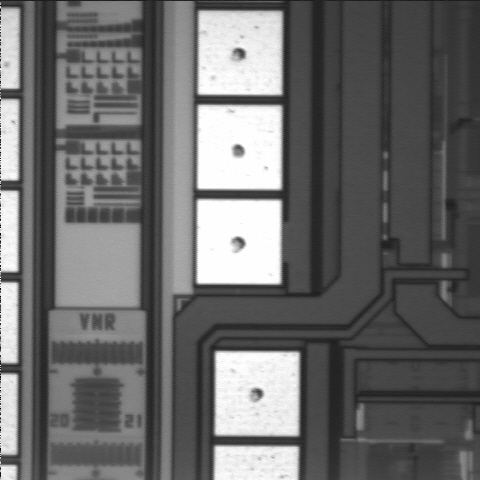pad: (197, 105, 282, 190), (197, 199, 281, 284), (215, 351, 299, 436), (198, 11, 282, 95)
